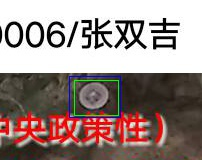text: (74, 80, 118, 115)
